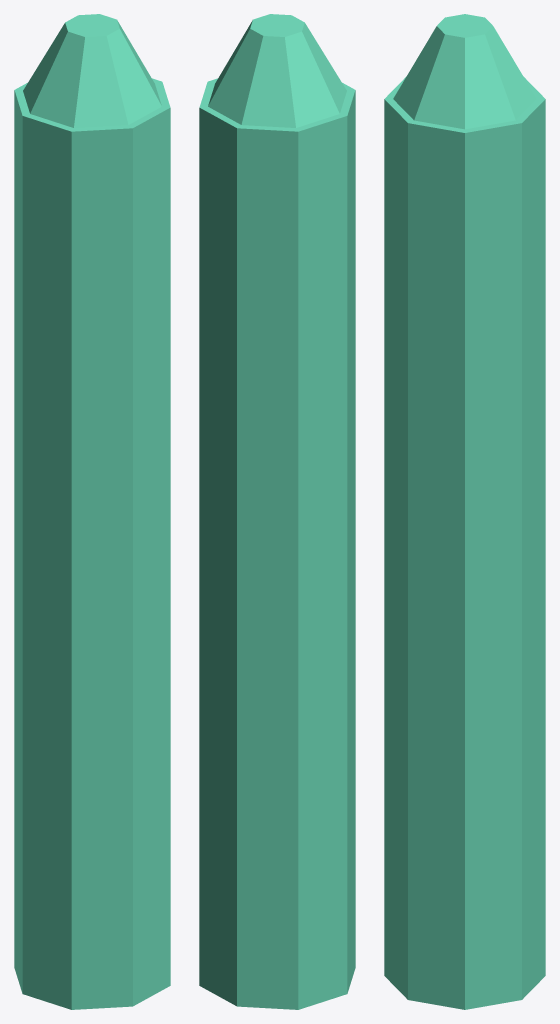
The model's file is adenine.glb.
The picture shows the model from 3 angles, left to right: view 1: azimuth 30°, elevation 25°; view 2: azimuth 150°, elevation 25°; view 3: azimuth 270°, elevation 25°; orthographic projection.
Visible parts, largest first — view 1: adenine; view 2: adenine; view 3: adenine.
Boxes of the visible parts, box(x1,y1,x2,y2) form: adenine: box(14, 14, 170, 1009); adenine: box(199, 14, 355, 1009); adenine: box(384, 14, 545, 1009).
Size of the model in its own units: 0.1667 by 1.08 by 0.1667.
